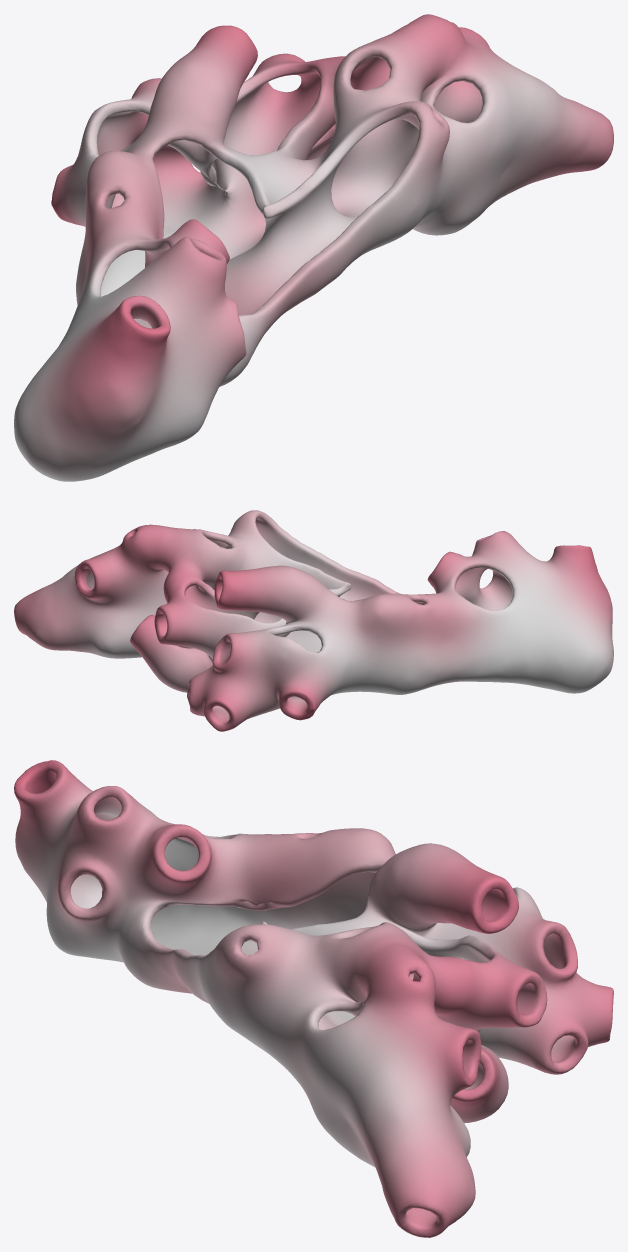
File: Vir_Colorized_uv.fbx
3 renders of one model, top to bottom at view 1: azimuth 30°, elevation 25°; view 2: azimuth 150°, elevation 25°; view 3: azimuth 270°, elevation 25°, orthographic. The views are drawn at different scales.
Parts seen in each view (by area): view 1: Blobby_Virus©George_Adamopoulos; view 2: Blobby_Virus©George_Adamopoulos; view 3: Blobby_Virus©George_Adamopoulos.
Part boxes in pixels (x1=…): Blobby_Virus©George_Adamopoulos: x1=14, y1=14, x2=613, y2=481; Blobby_Virus©George_Adamopoulos: x1=14, y1=510, x2=613, y2=731; Blobby_Virus©George_Adamopoulos: x1=14, y1=760, x2=613, y2=1237.
Bounding box in the file's own units: 65.33 × 19.56 × 45.39.
